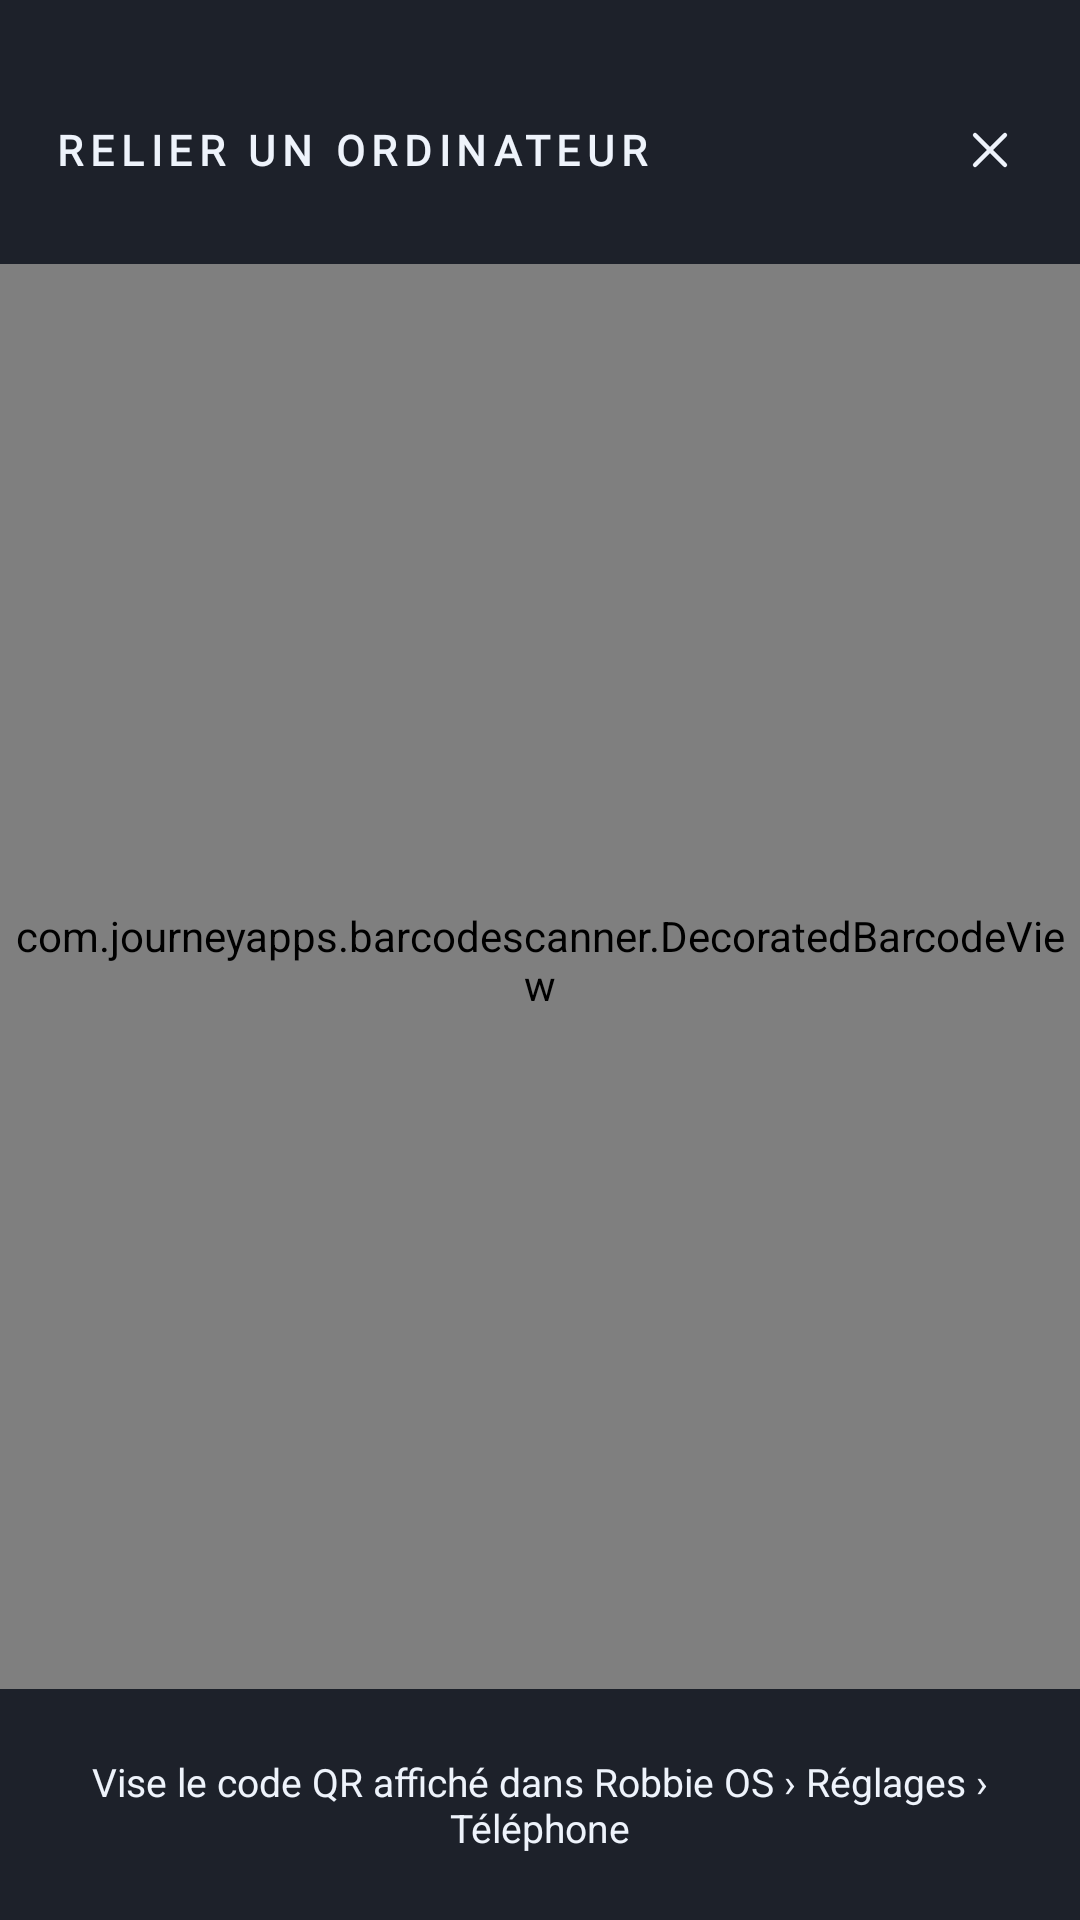

Named icons in this screenshot (1080px x 1920px) and their bounding boxes, (x1, y1, x2, y2):
Annuler: (973, 132, 1007, 168)
